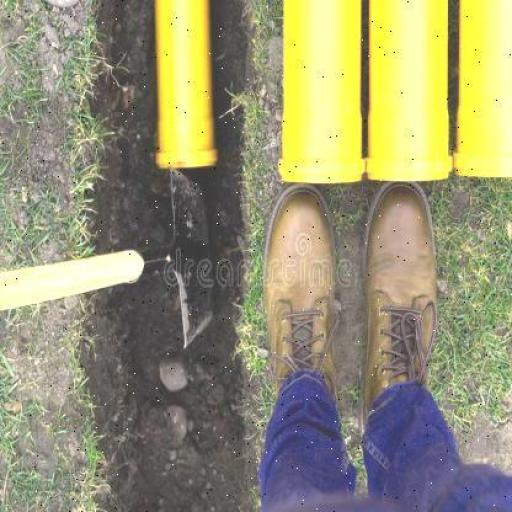safety_shoe: (264, 194, 343, 415), (364, 182, 435, 424)
